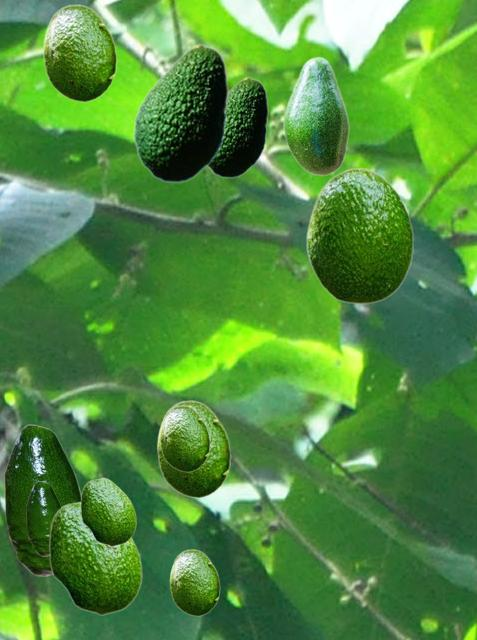avocado: (306, 167, 413, 303), (133, 44, 227, 182), (4, 424, 80, 575), (48, 499, 141, 614), (282, 56, 348, 175), (42, 4, 116, 101), (156, 400, 230, 497), (207, 77, 267, 177), (80, 477, 135, 545), (169, 549, 219, 615), (159, 405, 209, 471), (26, 481, 61, 555)
